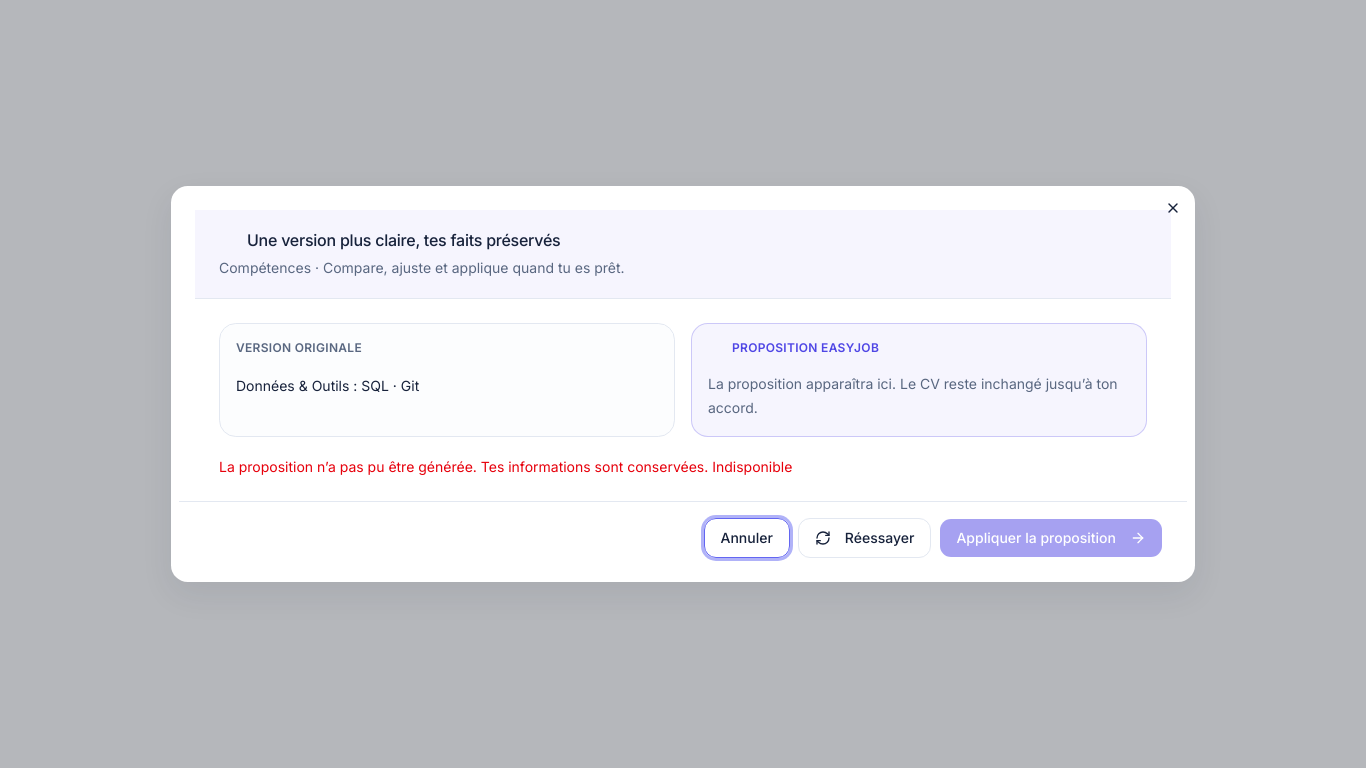
Scenario: Suggestion-first CV editing › recovers from a failed initial request with an explicit retry
The width and height of the screenshot is (1366, 768).
Expected: the message shows "Indisponible", [712,458,792,475]
Click the button "Réessayer".
click(865, 538)  # box [798,518,932,558]
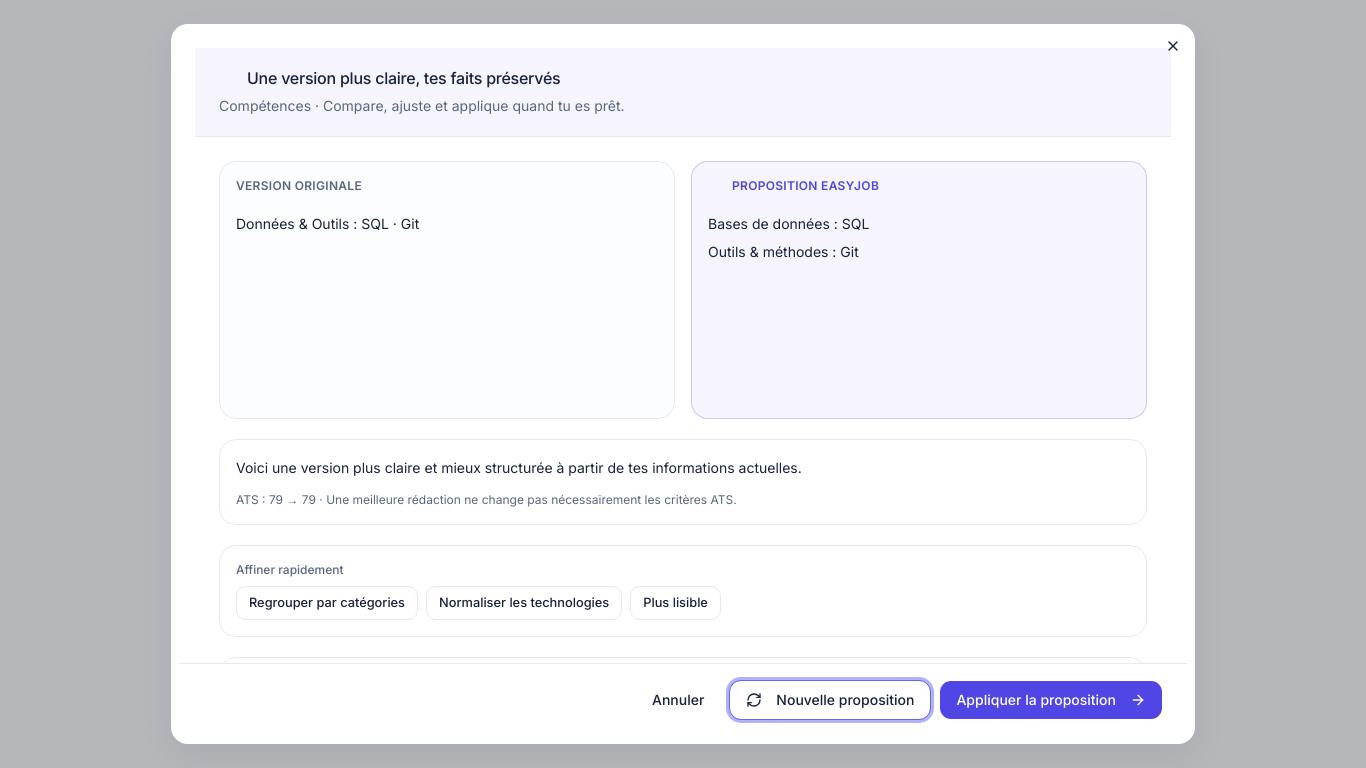
Result: the message is gone
